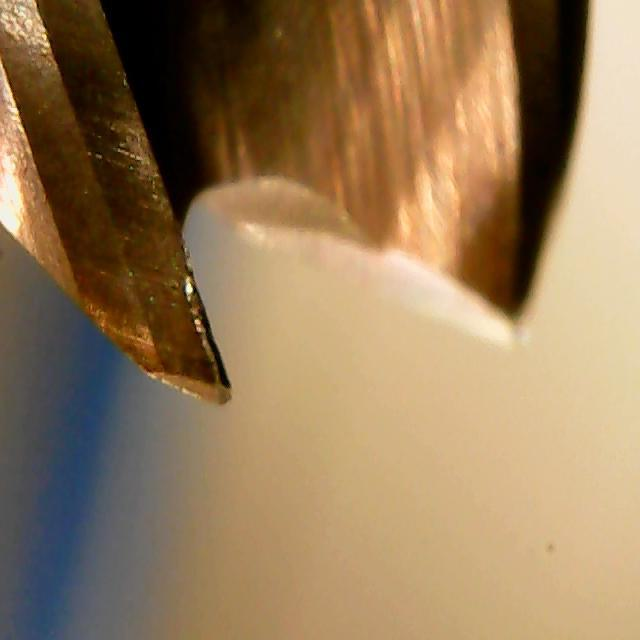Tool-wear-class-1: (117, 195, 252, 415)
